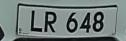4: (79, 10, 93, 36)
6: (65, 10, 80, 35)
8: (92, 10, 105, 35)
L: (29, 10, 44, 35)
R: (42, 10, 60, 35)
